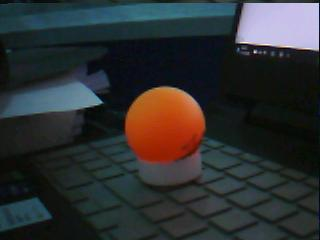oball: (125, 85, 206, 163)
